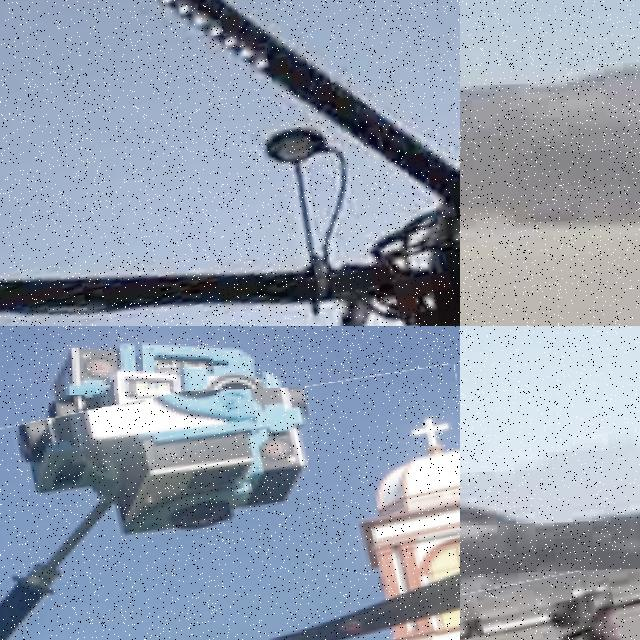drone: (0, 0, 460, 326), (0, 380, 460, 640), (460, 564, 640, 640)
